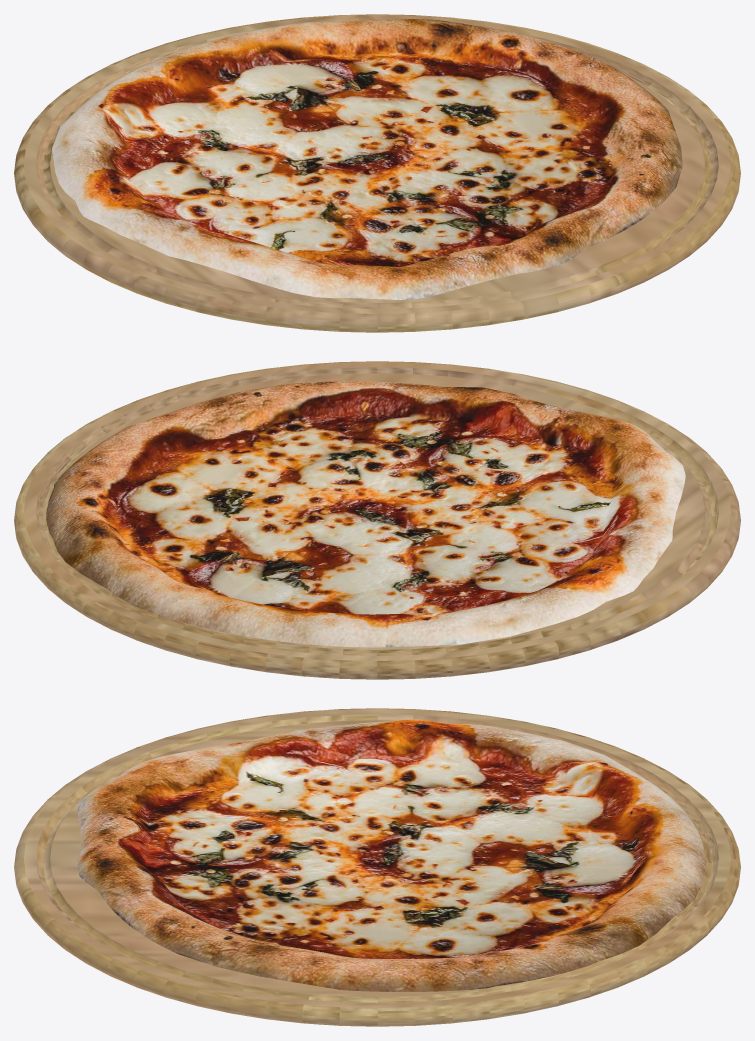
Rendered from realistic_pizza.glb.
3 views of the same model, one above another, from view 1: azimuth 30°, elevation 25°; view 2: azimuth 150°, elevation 25°; view 3: azimuth 270°, elevation 25° (orthographic).
Parts seen in each view (by area): view 1: Material2 (×2); view 2: Material2 (×2); view 3: Material2 (×2).
Part boxes in pixels (x1,y1,x2,y2): Material2 (×2): (14, 14, 740, 332); Material2 (×2): (14, 361, 740, 679); Material2 (×2): (14, 708, 740, 1026).
Bounding box in the file's own units: 18.31 × 0.928 × 18.31.
Materials: 2 (2 with a texture image).
